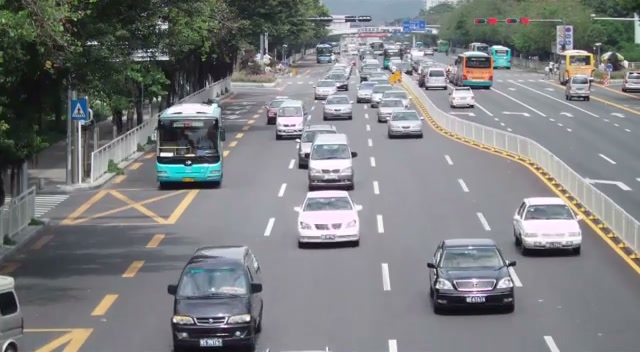bus: (155, 102, 224, 188), (457, 51, 494, 89)
car: (167, 245, 264, 352), (426, 238, 518, 315), (512, 196, 583, 256), (295, 190, 362, 248), (307, 135, 357, 191), (0, 275, 25, 352), (295, 128, 336, 169), (275, 103, 306, 139), (387, 110, 423, 139), (376, 95, 409, 124), (322, 95, 353, 120), (564, 75, 591, 101), (265, 97, 289, 125), (448, 86, 475, 109), (424, 68, 448, 90), (622, 71, 640, 92), (357, 82, 375, 103)
truck: (558, 50, 594, 85), (565, 75, 591, 101)
